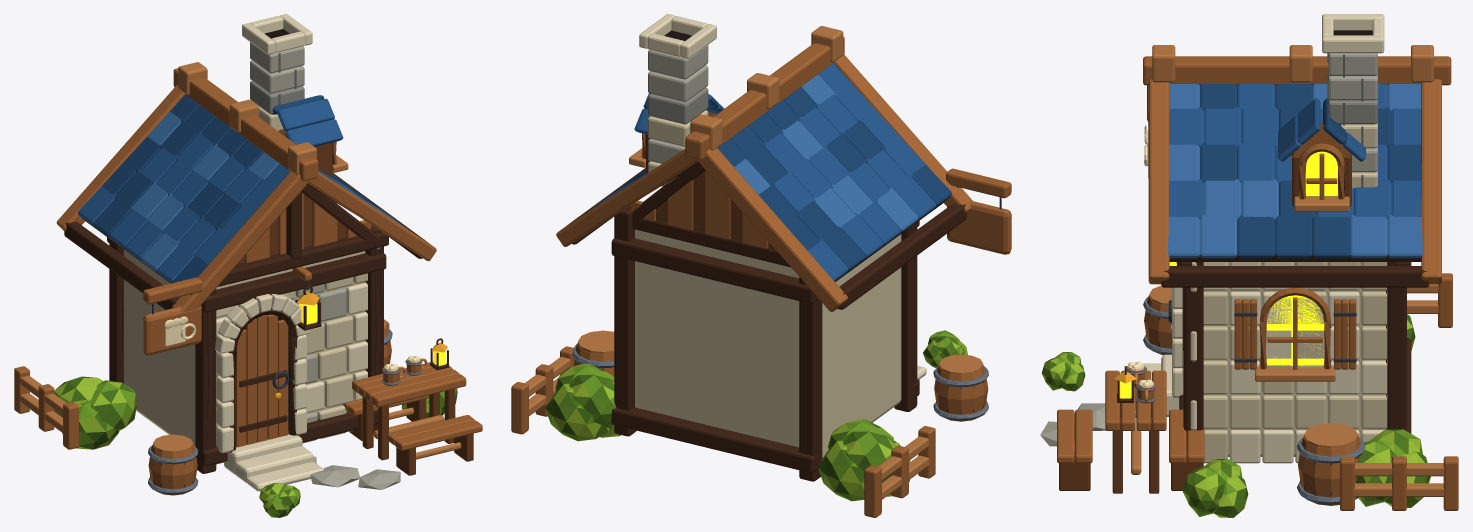
The model's file is tavern.glb.
The picture shows the model from 3 angles, left to right: view 1: azimuth 30°, elevation 25°; view 2: azimuth 150°, elevation 25°; view 3: azimuth 270°, elevation 25°; orthographic projection. The views are drawn at different scales.
Visible parts, largest first — view 1: Cottage walls, Carved roof verge, Wall cross beam.002, Ridge timber, Corner upright, Gable tie beam, Carved roof verge.002, Carved roof verge.001, Roof eave, Corner upright.002, Carved hanging sign, Leaf cluster.004 (+72 smaller); view 2: Cottage walls, Carved roof verge.001, Wall cross beam.001, Wall cross beam.003, Corner upright.003, Corner upright.001, Ridge timber, Roof eave, Carved roof verge.003, Corner upright, Carved roof verge, Carved hanging sign (+64 smaller); view 3: Roof eave.001, Ridge timber, Carved roof verge.002, Carved roof verge.003, Corner upright.003, Cottage walls, Corner upright.002, Warm arched window.001, Barrel staves.002, Soft edged blue roof tile.066, Soft edged blue roof tile.068, Soft edged blue roof tile.065 (+106 smaller).
Boxes of the visible parts, bbox=[...] form: Cottage walls: bbox=[124, 250, 365, 445]; Carved roof verge: bbox=[172, 171, 309, 312]; Wall cross beam.002: bbox=[201, 253, 386, 312]; Ridge timber: bbox=[173, 68, 318, 181]; Corner upright: bbox=[195, 288, 216, 473]; Gable tie beam: bbox=[217, 231, 388, 286]; Carved roof verge.002: bbox=[308, 171, 436, 260]; Carved roof verge.001: bbox=[56, 84, 185, 230]; Roof eave: bbox=[64, 221, 179, 309]; Corner upright.002: bbox=[365, 225, 383, 431]; Carved hanging sign: bbox=[143, 306, 201, 355]; Leaf cluster.004: bbox=[89, 380, 136, 430]; Cottage walls: bbox=[635, 229, 901, 458]; Carved roof verge.001: bbox=[697, 148, 847, 311]; Wall cross beam.001: bbox=[611, 407, 819, 472]; Wall cross beam.003: bbox=[611, 238, 818, 303]; Corner upright.003: bbox=[614, 206, 636, 436]; Corner upright.001: bbox=[799, 277, 822, 481]; Ridge timber: bbox=[685, 36, 844, 160]; Roof eave: bbox=[837, 203, 966, 309]; Carved roof verge.003: bbox=[556, 149, 697, 246]; Corner upright: bbox=[894, 226, 917, 411]; Carved roof verge: bbox=[833, 54, 972, 213]; Carved hanging sign: bbox=[947, 201, 1011, 254]; Roof eave.001: bbox=[1161, 266, 1429, 287]; Ridge timber: bbox=[1143, 56, 1451, 85]; Carved roof verge.002: bbox=[1148, 79, 1169, 284]; Carved roof verge.003: bbox=[1421, 79, 1441, 284]; Corner upright.003: bbox=[1387, 262, 1406, 430]; Cottage walls: bbox=[1203, 262, 1387, 456]; Corner upright.002: bbox=[1184, 262, 1203, 466]; Warm arched window.001: bbox=[1266, 295, 1324, 365]; Barrel staves.002: bbox=[1298, 436, 1360, 505]; Soft edged blue roof tile.066: bbox=[1237, 215, 1274, 258]; Soft edged blue roof tile.068: bbox=[1312, 215, 1349, 258]; Soft edged blue roof tile.065: bbox=[1200, 215, 1237, 258].
Size of the model in its own units: 3.99 by 4.24 by 3.63.
